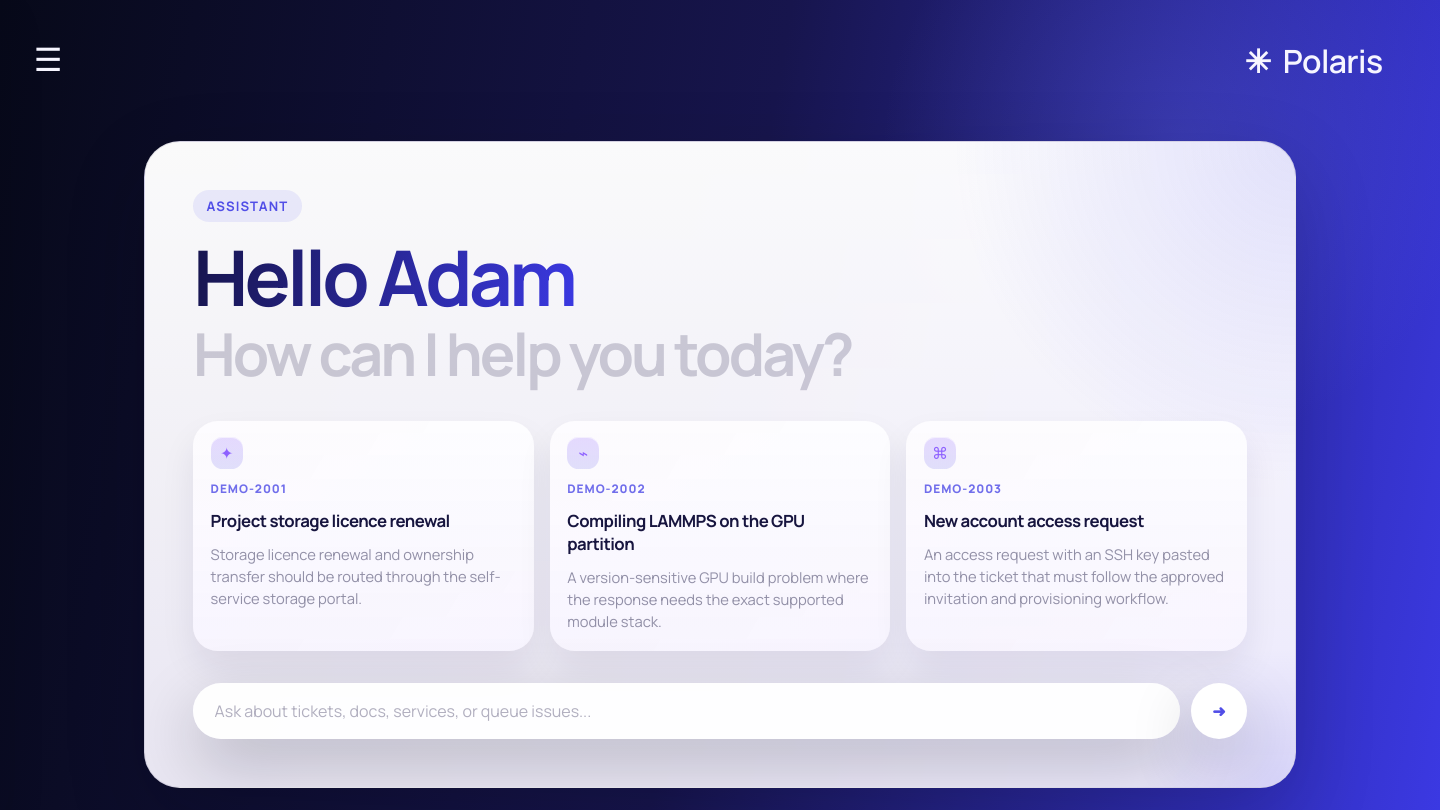
AssistantPage › submits a synthetic example query to the API and renders the response
Click the button "Project storage licence renewal": coordinates (227, 453) [193,421,534,651]
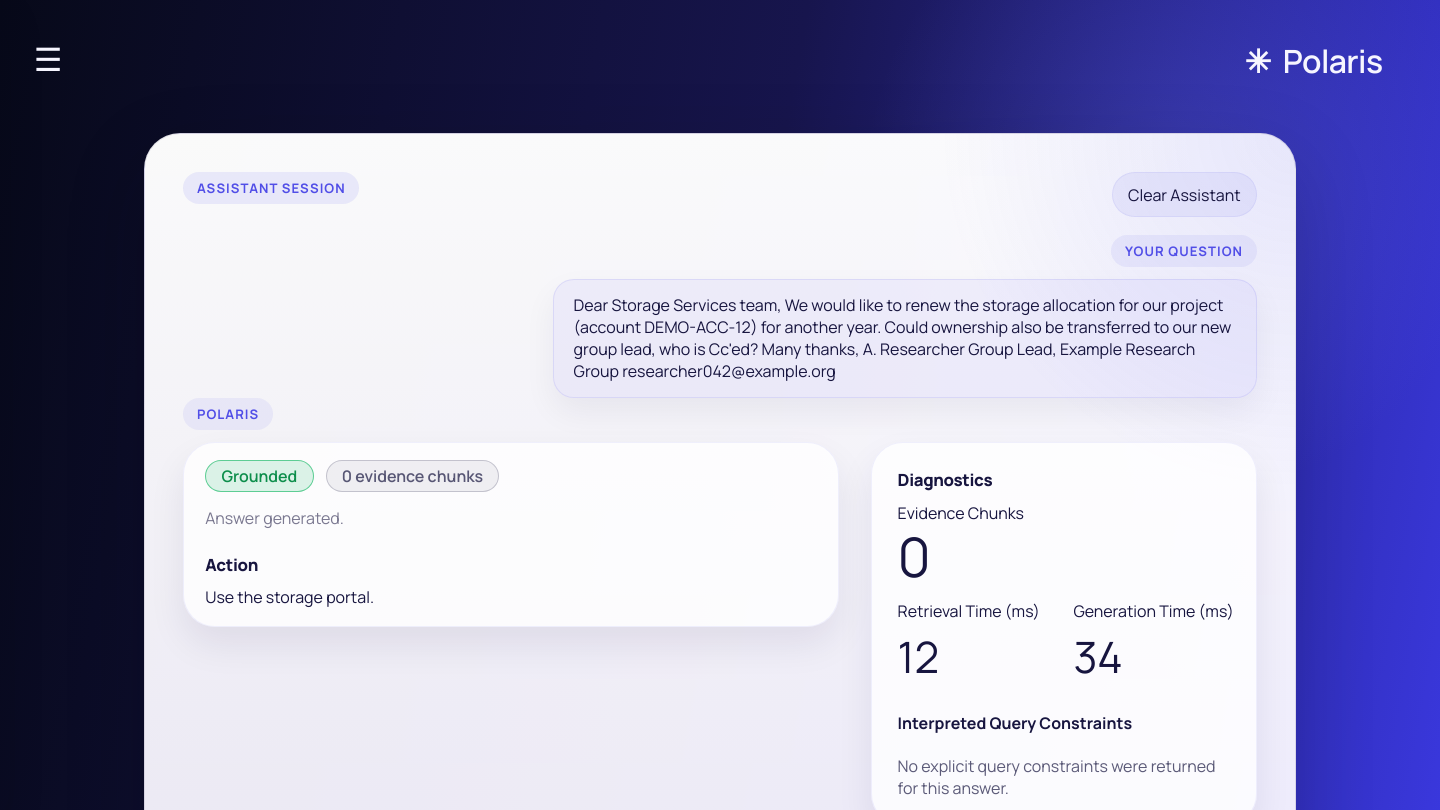
Now the text "Use the storage portal." is shown, box [205,586,374,608]
Now the text "DEMO-ACC-12" is shown, box [574,294,1231,382]
